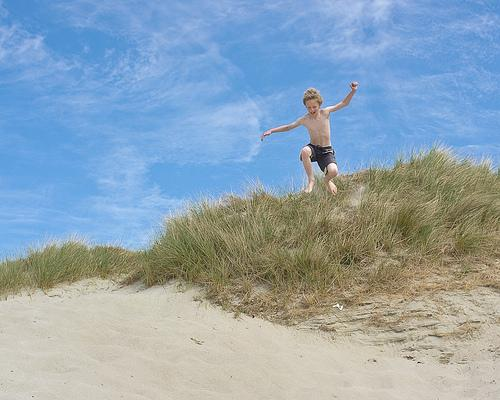person: (258, 82, 358, 194)
